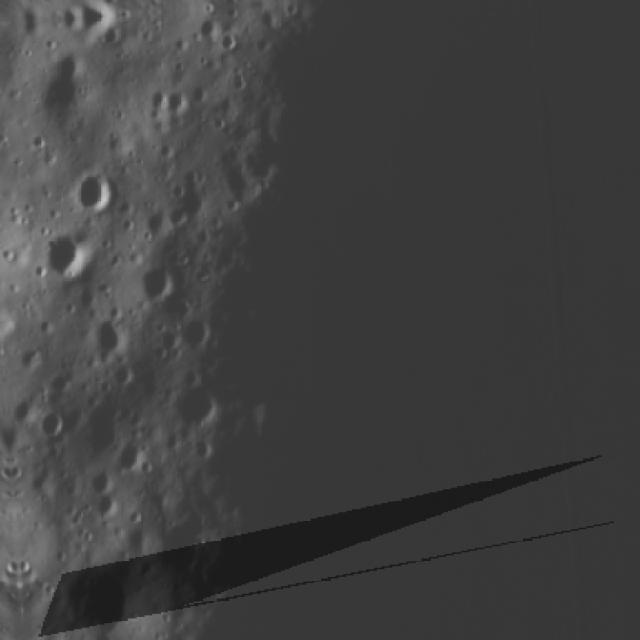crater: (60, 547, 149, 640), (28, 43, 100, 131), (36, 225, 92, 283), (169, 375, 225, 427), (80, 306, 132, 360), (133, 255, 187, 299), (70, 166, 119, 214), (176, 307, 216, 348), (38, 403, 73, 445), (112, 435, 148, 474), (149, 87, 191, 116), (189, 12, 225, 42), (88, 460, 119, 494), (93, 488, 127, 518), (210, 26, 241, 54)
